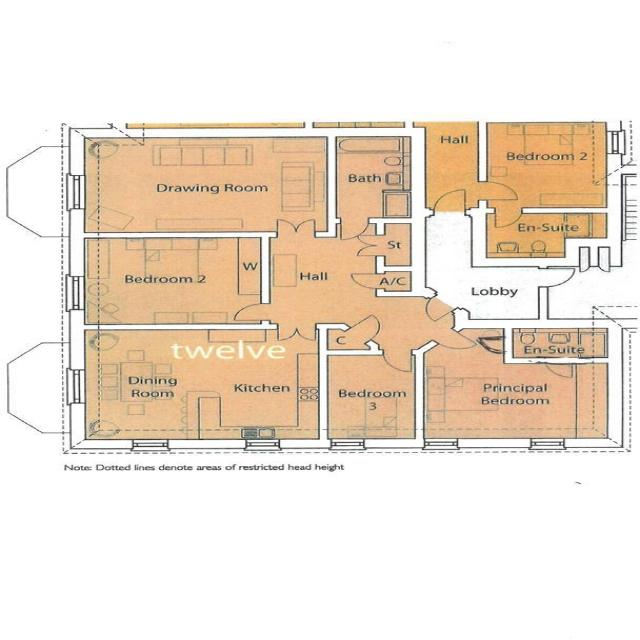DOOR: (345, 315, 382, 341), (425, 297, 459, 323), (479, 179, 520, 200), (432, 190, 465, 214), (434, 329, 478, 347), (539, 268, 573, 289), (341, 218, 370, 240), (383, 350, 410, 372), (234, 302, 266, 320), (494, 213, 521, 228)
DOUBLE DOOR: (274, 217, 315, 238), (278, 325, 317, 341)
ROOM: (70, 324, 328, 448), (415, 306, 623, 451), (69, 128, 338, 240), (66, 232, 279, 330), (480, 122, 625, 212), (321, 350, 429, 448)
WINDOW: (64, 276, 86, 310), (66, 174, 86, 211), (67, 370, 85, 405), (128, 438, 169, 453), (606, 130, 627, 155), (245, 439, 284, 451), (330, 438, 367, 450), (532, 438, 567, 450), (423, 439, 461, 450)
